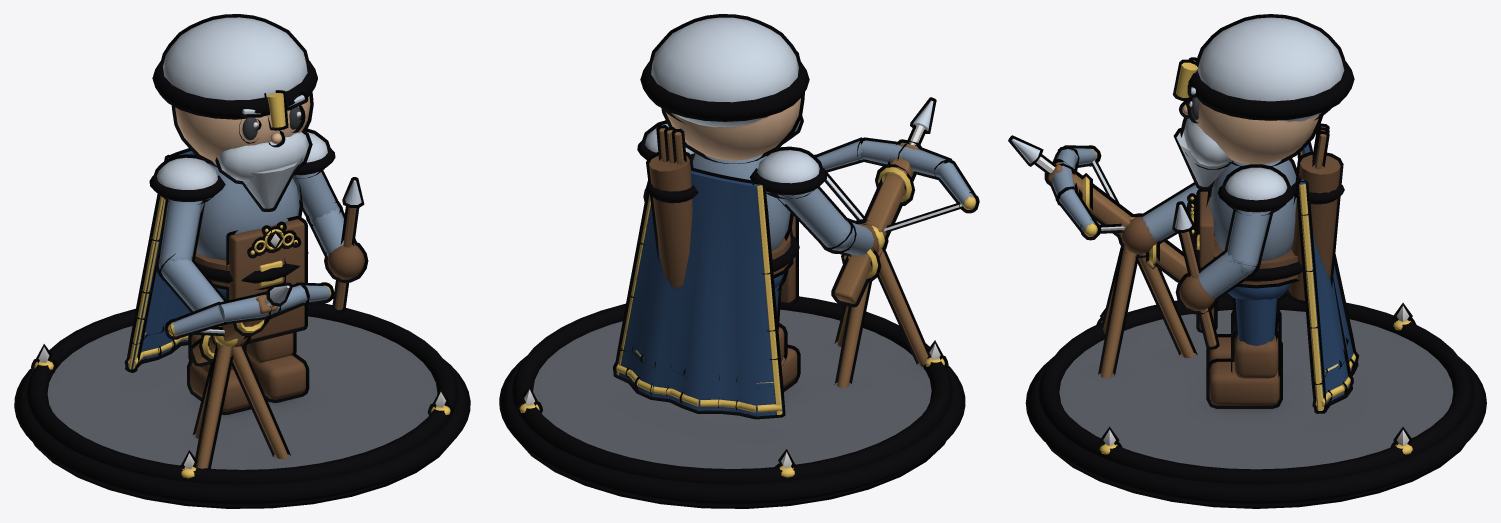
The model's file is ballista_s4.fbx.
3 renders of one model, left to right at view 1: azimuth 30°, elevation 25°; view 2: azimuth 150°, elevation 25°; view 3: azimuth 270°, elevation 25°, orthographic. The views are drawn at different scales.
Visible parts, largest first — view 1: ballista_s4; view 2: ballista_s4; view 3: ballista_s4.
Part boxes in pixels (x1,y1,x2,y2): ballista_s4: (14,14,470,508); ballista_s4: (499,14,979,508); ballista_s4: (1008,14,1486,508).
Bounding box in the file's own units: 1.58 × 1.48 × 1.64.
2 materials, 1 textured.
